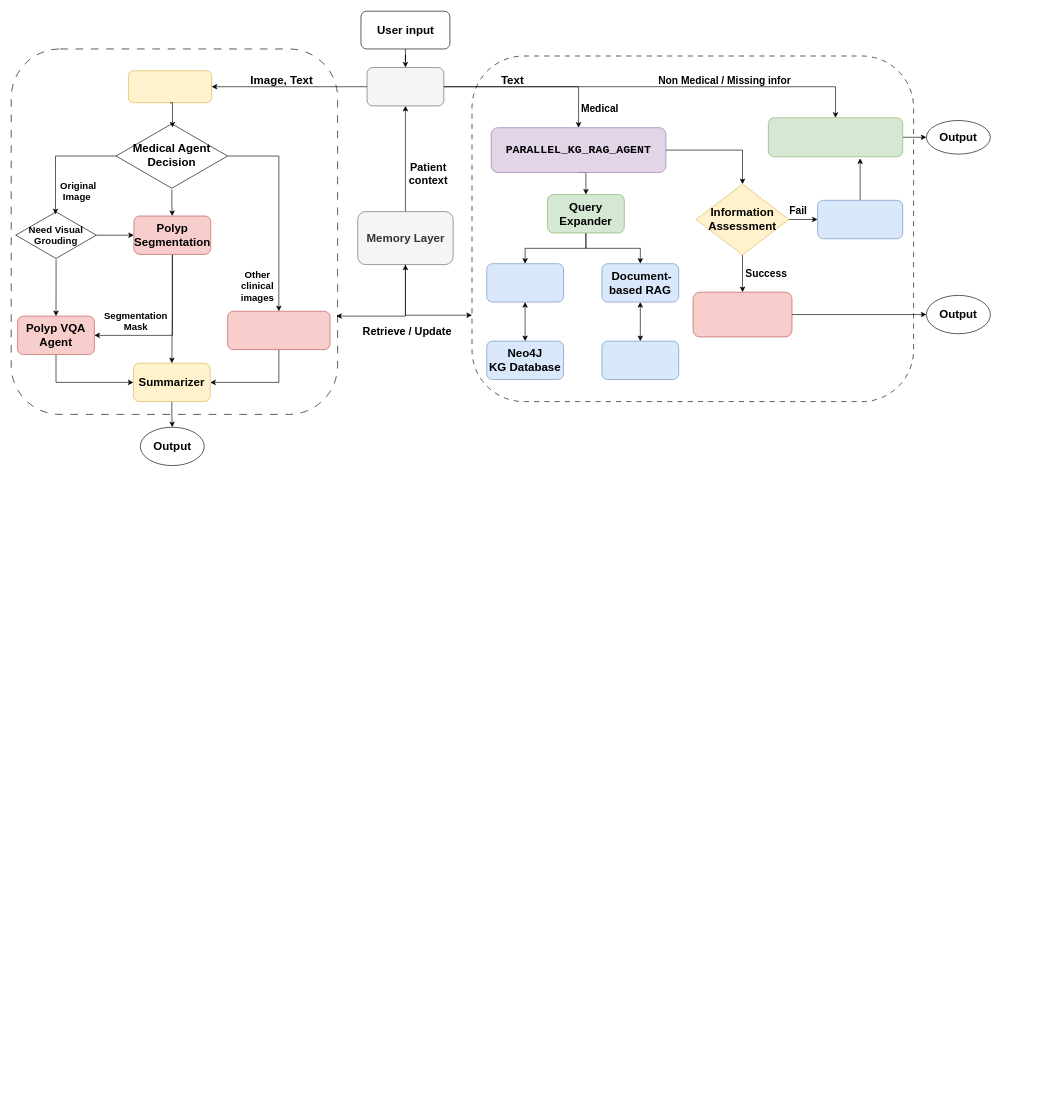
Some shapes in this 1059 by 1104 pixel diagram are drawn without their labels. Here are the shapes that lost their labels. From the top down, the centre of each, then its label:
At (170,86): "Vision Agent".
At (405,86): "Agent core".
At (835,137): "LLM (Conversational Agent)".
At (860,219): "Web search agent".
At (525,282): "KG-based RAG".
At (278,330): "Genral Diagnosis Agent".
At (742,314): "🧠 MedGemma CoT".
At (640,360): "Qdrant Vector DB".
